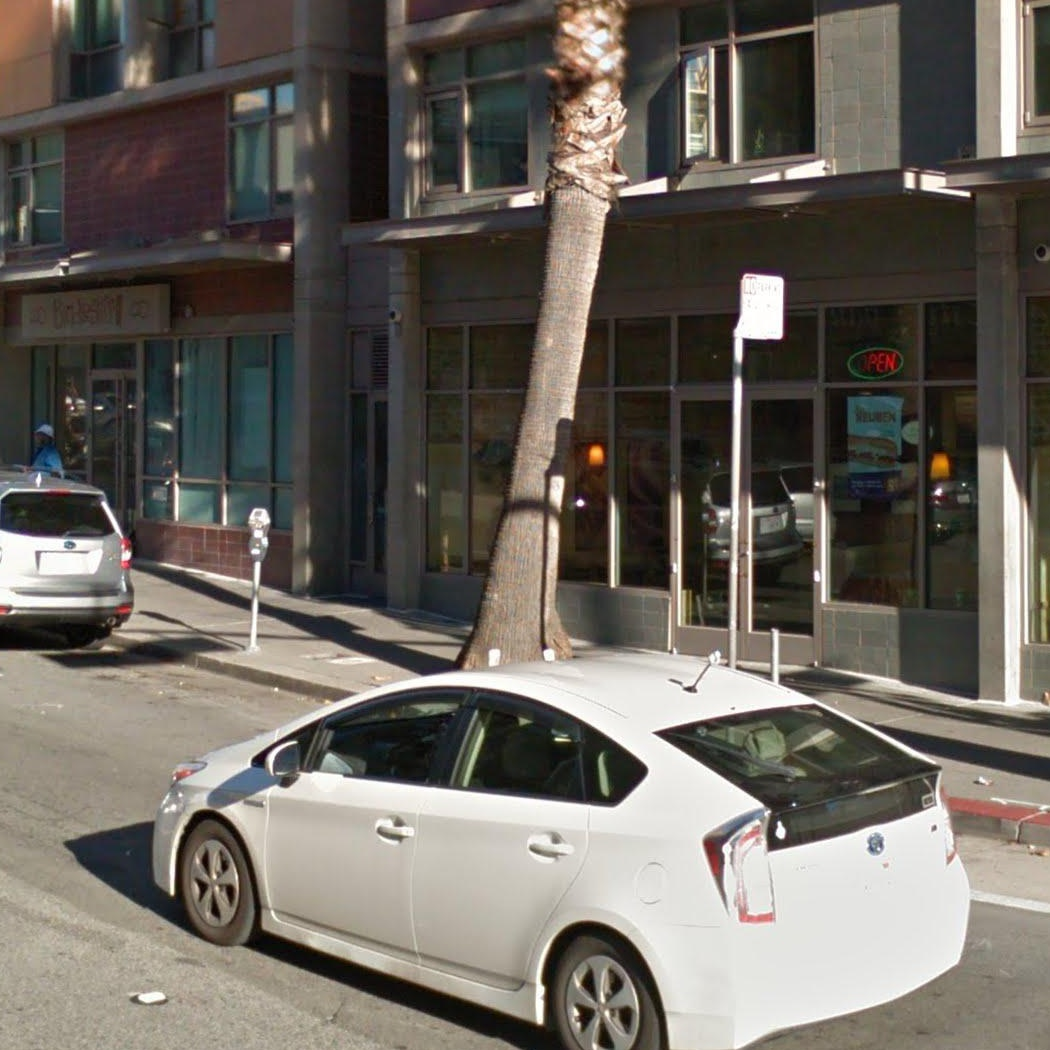No Parking: (739, 273, 784, 340)
